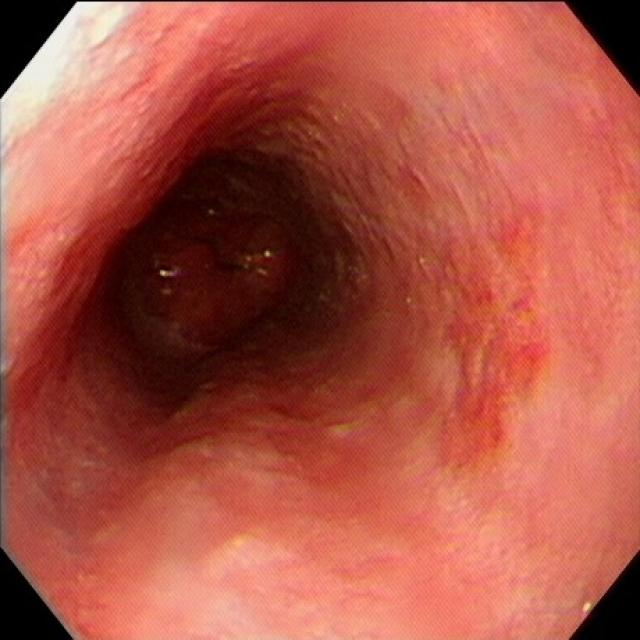A: (425, 205, 552, 472), (161, 374, 304, 478)
I: (125, 170, 310, 348)
